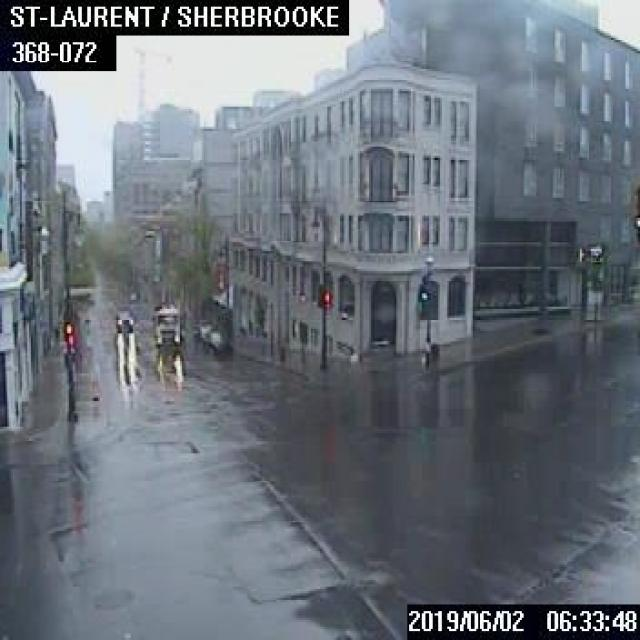vehicle: (152, 302, 179, 343), (202, 328, 232, 356), (191, 316, 216, 338), (114, 307, 132, 331)
